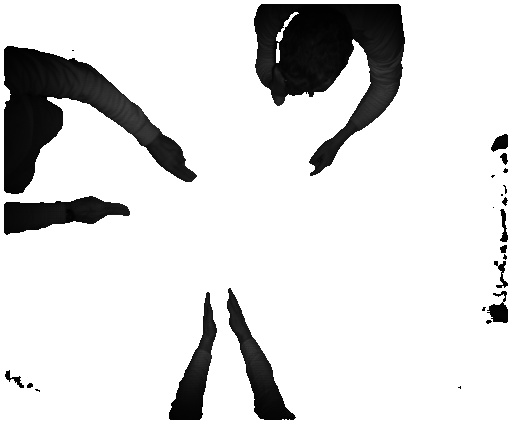hand: (152, 137, 199, 183), (75, 192, 135, 223), (304, 141, 341, 175)
spine: (226, 288, 262, 338), (192, 288, 221, 345)
